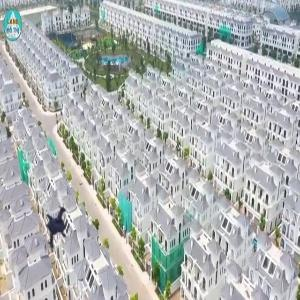drone: (27, 195, 85, 253)
